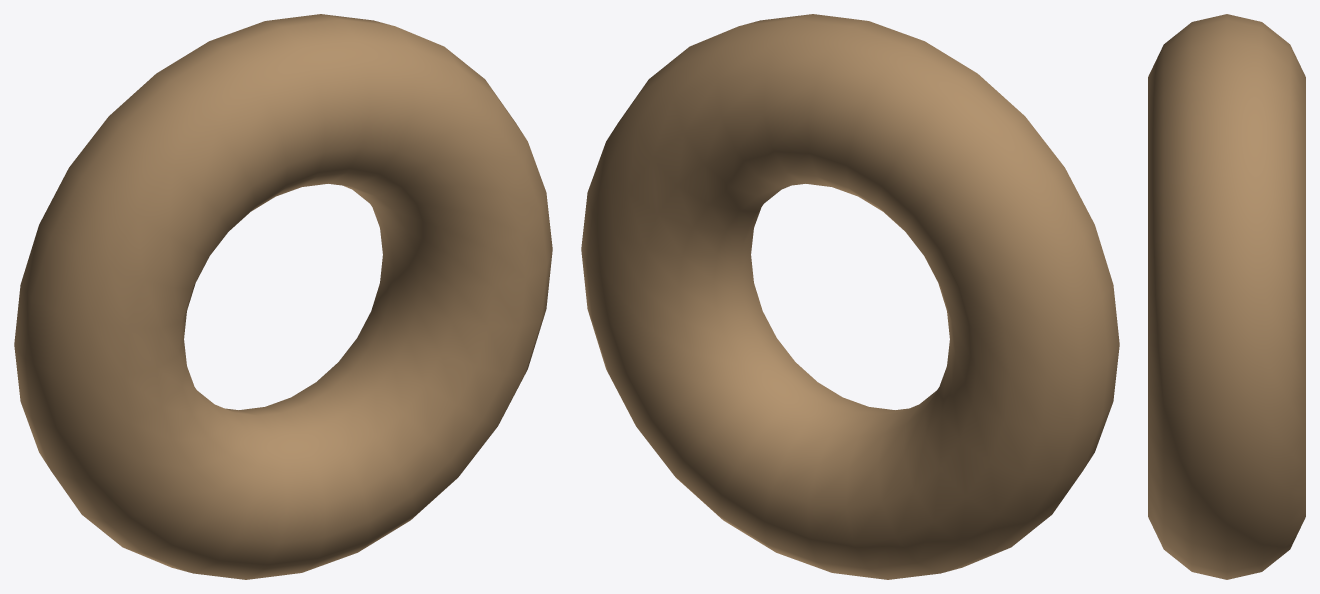
Rendered from hair-short-01.glb.
3 views of the same model, side by side, from view 1: azimuth 30°, elevation 25°; view 2: azimuth 150°, elevation 25°; view 3: azimuth 270°, elevation 25° (orthographic). The views are drawn at different scales.
Size of the model in its own units: 2.24 by 2.24 by 0.624.
